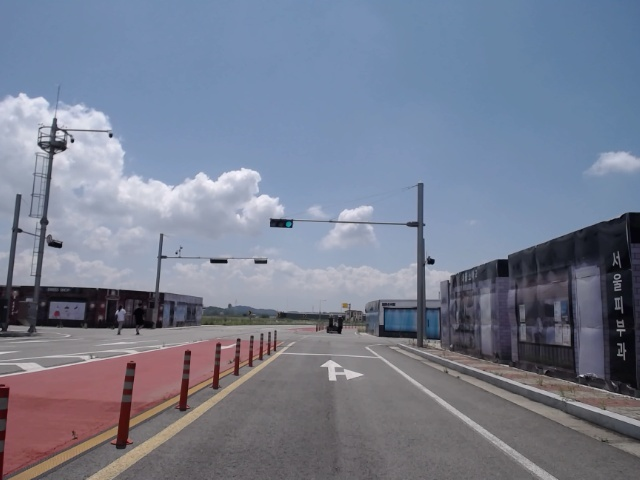green_3: (272, 220, 293, 227)
